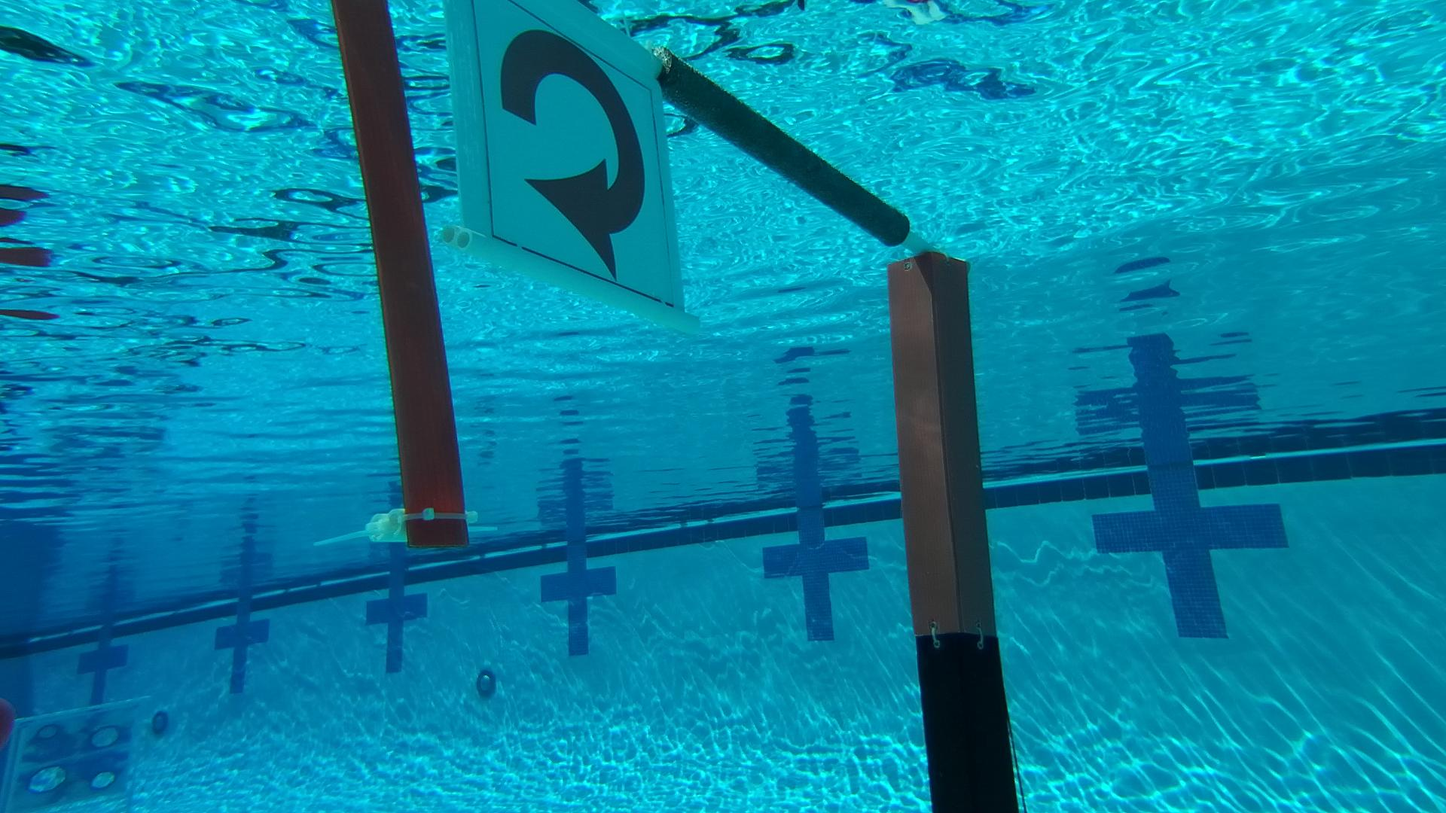red octagon: (25, 757, 72, 797), (38, 721, 63, 752), (92, 767, 117, 795), (90, 725, 115, 751)
red-gate-sign: (438, 2, 702, 336)
